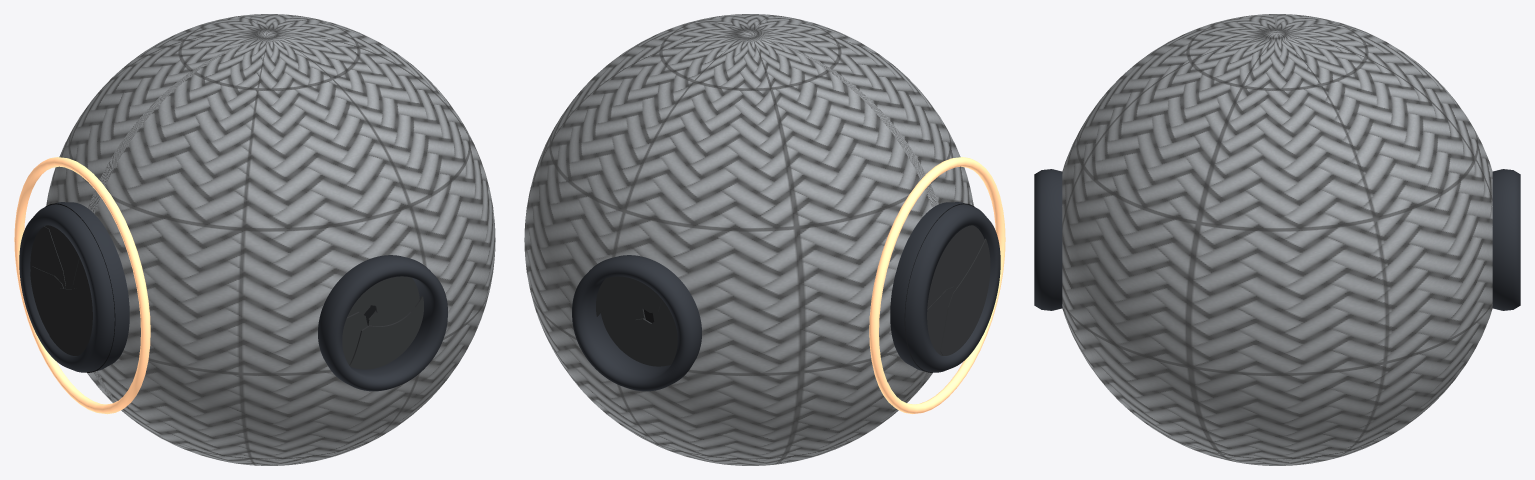
Rendered from mine.glb.
3 renders of one model, left to right at view 1: azimuth 30°, elevation 25°; view 2: azimuth 150°, elevation 25°; view 3: azimuth 270°, elevation 25°, orthographic.
Parts seen in each view (by area): view 1: MineBody, MineBoreCuff, MineStarboardCuff, MineBoreAccent, MineStarboardIris.005, MineBoreIris.005, MineBoreIris.003, MineBoreIris.004, MineStarboardIris.001, MineBoreIris.002, MineStarboardIris.004, MineStarboardIris.000; view 2: MineBody, MineBoreCuff, MinePortCuff, MineBoreAccent, MineBoreIris.005, MinePortIris.005, MinePortIris.001, MinePortIris.002, MineBoreIris.004, MineBoreIris.002, MineBoreIris.003, MinePortIris.003 (+1 smaller); view 3: MineBody, MinePortCuff, MineStarboardCuff.
Boxes of the visible parts, left/top/right/bottom form: MineBody: left=46, top=14, right=495, bottom=465; MineBoreCuff: left=19, top=202, right=129, bottom=372; MineStarboardCuff: left=318, top=255, right=447, bottom=391; MineBoreAccent: left=14, top=157, right=150, bottom=414; MineStarboardIris.005: left=349, top=295, right=423, bottom=369; MineBoreIris.005: left=47, top=284, right=92, bottom=355; MineBoreIris.003: left=30, top=226, right=65, bottom=288; MineBoreIris.004: left=30, top=266, right=63, bottom=333; MineStarboardIris.001: left=375, top=276, right=419, bottom=316; MineBoreIris.002: left=45, top=225, right=79, bottom=288; MineStarboardIris.004: left=342, top=312, right=367, bottom=364; MineStarboardIris.000: left=367, top=304, right=416, bottom=326; MineBody: left=524, top=14, right=973, bottom=465; MineBoreCuff: left=890, top=202, right=1000, bottom=372; MinePortCuff: left=572, top=255, right=701, bottom=391; MineBoreAccent: left=869, top=157, right=1005, bottom=414; MineBoreIris.005: left=940, top=238, right=990, bottom=355; MinePortIris.005: left=596, top=276, right=661, bottom=316; MinePortIris.001: left=601, top=303, right=645, bottom=350; MinePortIris.002: left=622, top=318, right=668, bottom=366; MineBoreIris.004: left=927, top=286, right=956, bottom=355; MineBoreIris.002: left=942, top=225, right=971, bottom=286; MineBoreIris.003: left=927, top=254, right=957, bottom=308; MinePortIris.003: left=648, top=322, right=677, bottom=365; MineBody: left=1062, top=14, right=1492, bottom=465; MinePortCuff: left=1492, top=169, right=1520, bottom=310; MineStarboardCuff: left=1034, top=169, right=1062, bottom=310.
Bounding box in the file's own units: 2.08 × 2 × 2.15.
5 materials, 1 textured.
